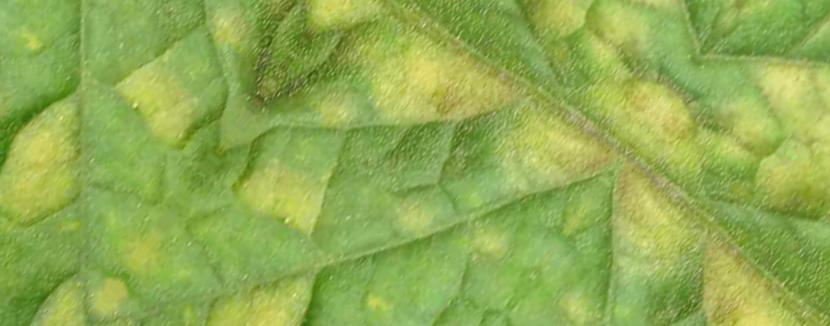Tomato mold leaf: (34, 0, 796, 326)
